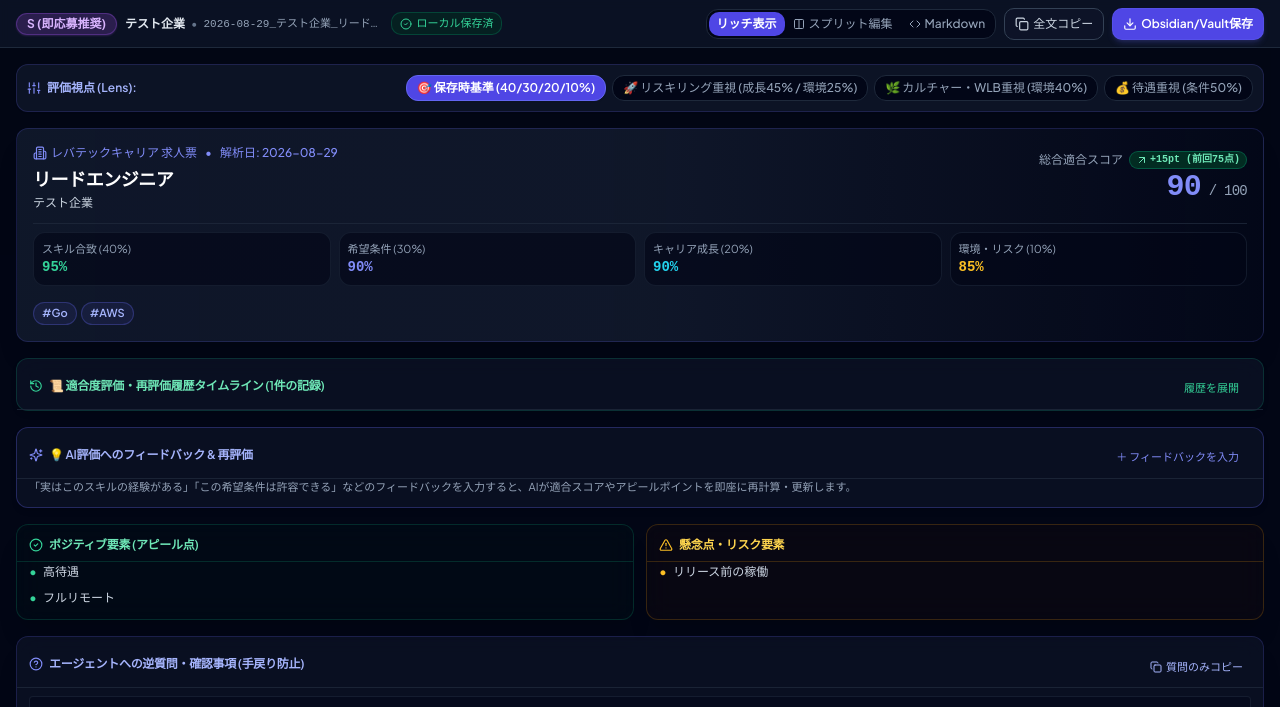
Test: PreviewPane Component › renders evaluation history timeline and score diff badge when evaluationHistory exists
The image size is (1280, 707).
Check: the text "+15pt (前回75点)" is shown, box [1129,151,1247,169]
Open History Accordion
Click the button "履歴を展開": (1212, 388) [1172,376,1251,400]
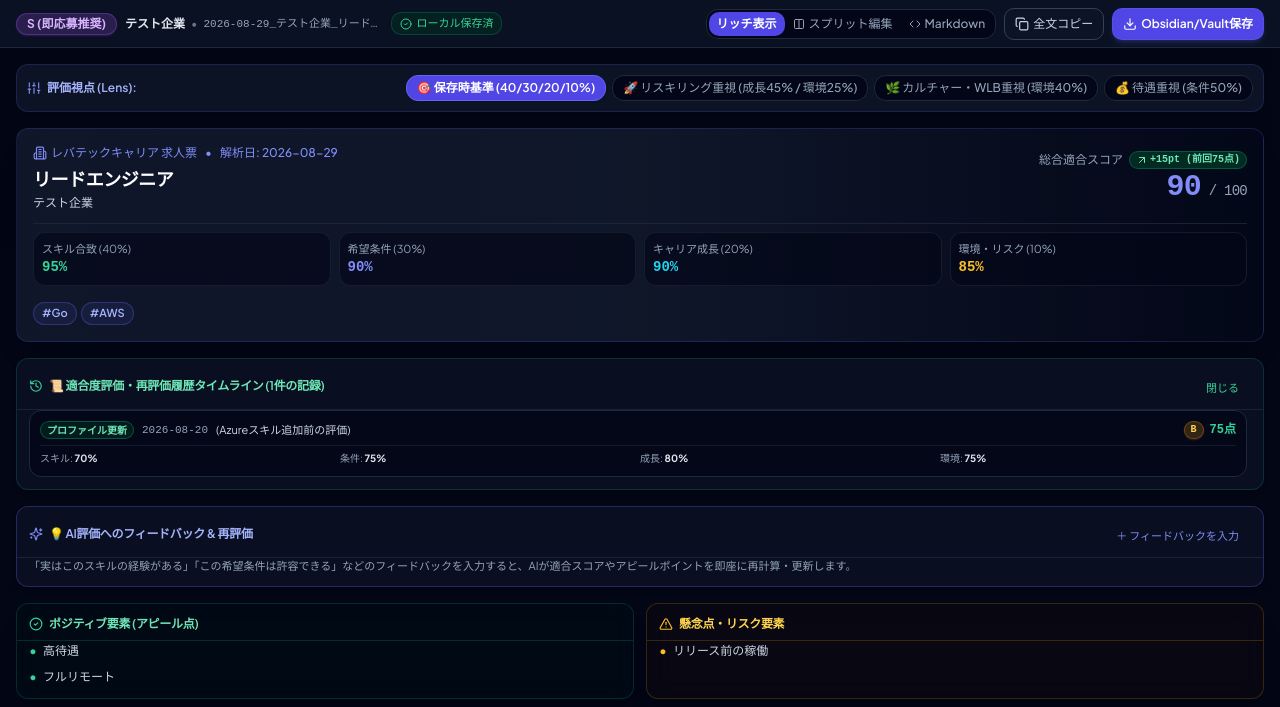
Check: the text "(Azureスキル追加前の評価)" is shown, box [216,422,350,438]
Check: the text "75点" is shown, box [1210,422,1236,438]
